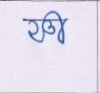i_matra: (49, 10, 67, 45)
